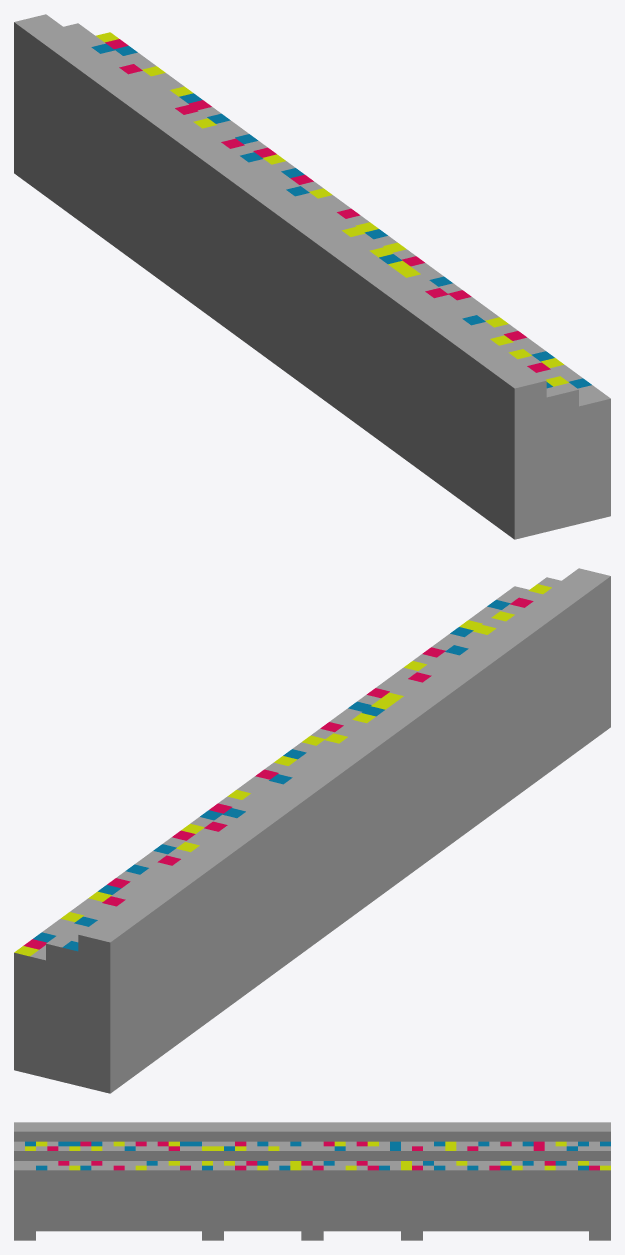
Rendered from SM_ControlPanel_01a.fbx.
3 renders of one model, top to bottom at view 1: azimuth 30°, elevation 25°; view 2: azimuth 150°, elevation 25°; view 3: azimuth 270°, elevation 25°, orthographic. The views are drawn at different scales.
Parts seen in each view (by area): view 1: SM_ControlPanel_01a; view 2: SM_ControlPanel_01a; view 3: SM_ControlPanel_01a.
Boxes of the visible parts, bbox=[...] form: SM_ControlPanel_01a: bbox=[14, 14, 610, 539]; SM_ControlPanel_01a: bbox=[14, 568, 610, 1093]; SM_ControlPanel_01a: bbox=[14, 1122, 610, 1240].
Size of the model in its own units: 6 by 9 by 54.
